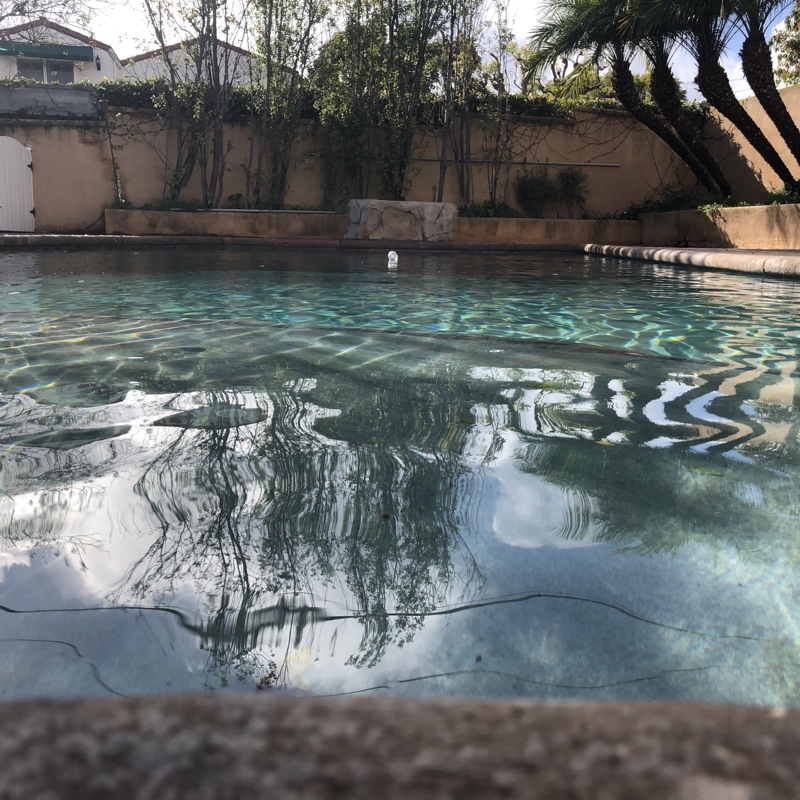Plastic Bottle: (385, 247, 400, 269)
